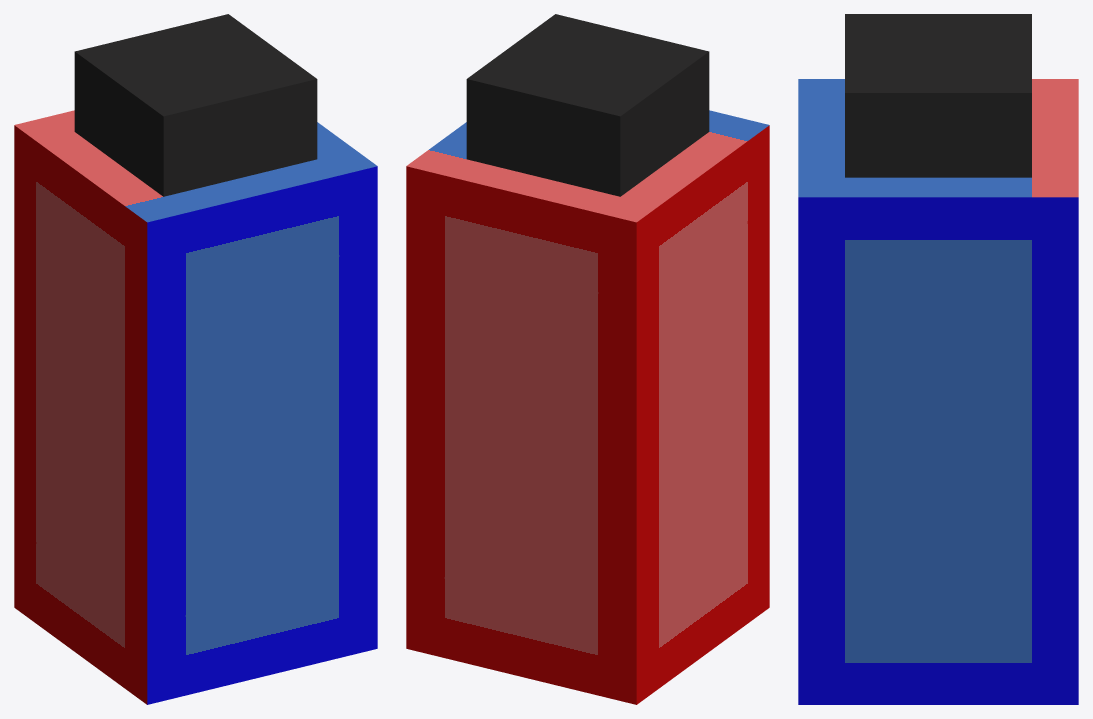
The model's file is paint-bottle.gltf.
The picture shows the model from 3 angles, left to right: view 1: azimuth 30°, elevation 25°; view 2: azimuth 150°, elevation 25°; view 3: azimuth 270°, elevation 25°; orthographic projection. The views are drawn at different scales.
Visible parts, largest first — view 1: cube (×2); view 2: cube (×2); view 3: cube (×2).
Part boxes in pixels (x1=…): cube (×2): x1=14, y1=14, x2=377, y2=704; cube (×2): x1=406, y1=14, x2=769, y2=704; cube (×2): x1=798, y1=14, x2=1078, y2=704.
Bounding box in the file's own units: 0.375 × 0.875 × 0.375.
1 material, 1 textured.
